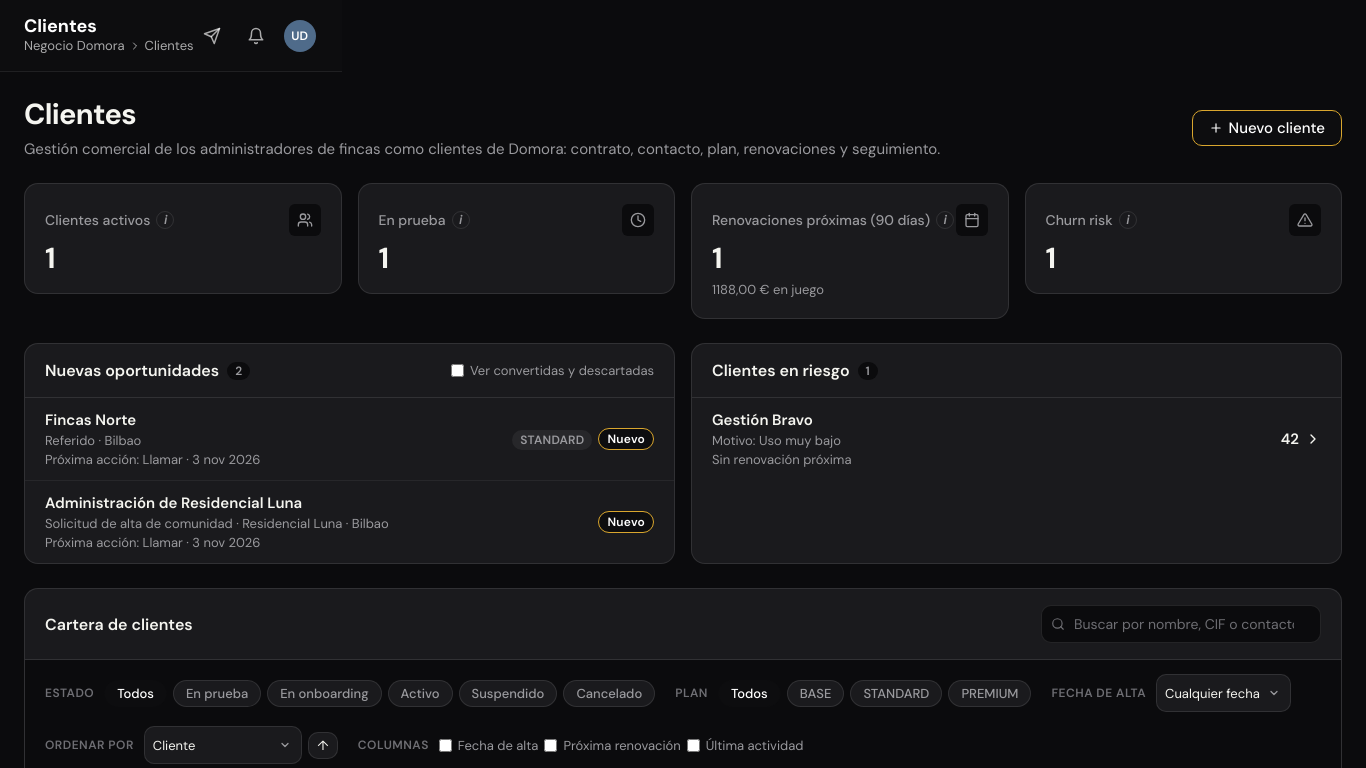
Test: ClientsAComponent (Clientes, S13) › la ficha de una oportunidad muestra y añade seguimiento comercial
Click the button that starts with "Fincas Norte" at (91, 420), box [25,398,674,480]
(page scrolled)
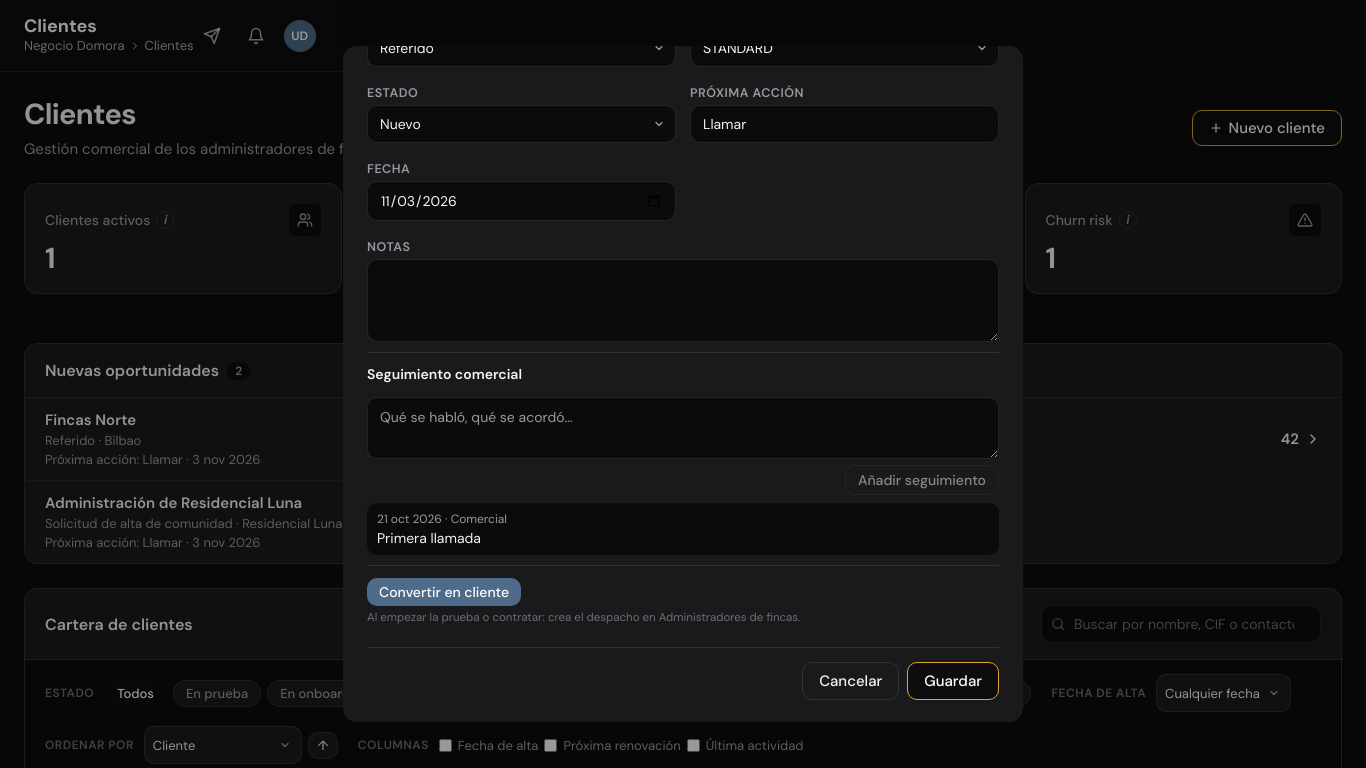
Type "Enviada la propuesta" into the text box with placeholder "Qué se habló, qué se acordó…" at (683, 428), box [367,397,999,459]
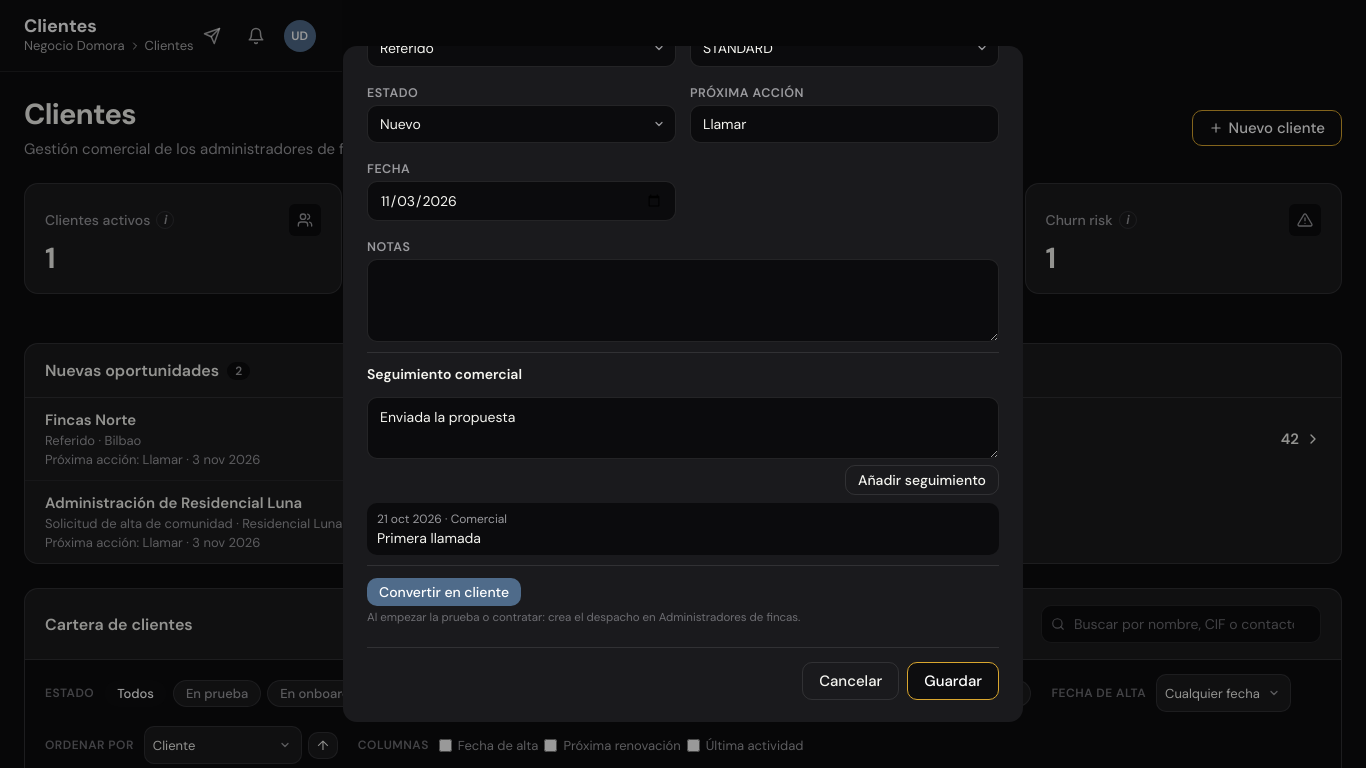
Click the button "Añadir seguimiento" at (922, 480), box [845,465,999,495]
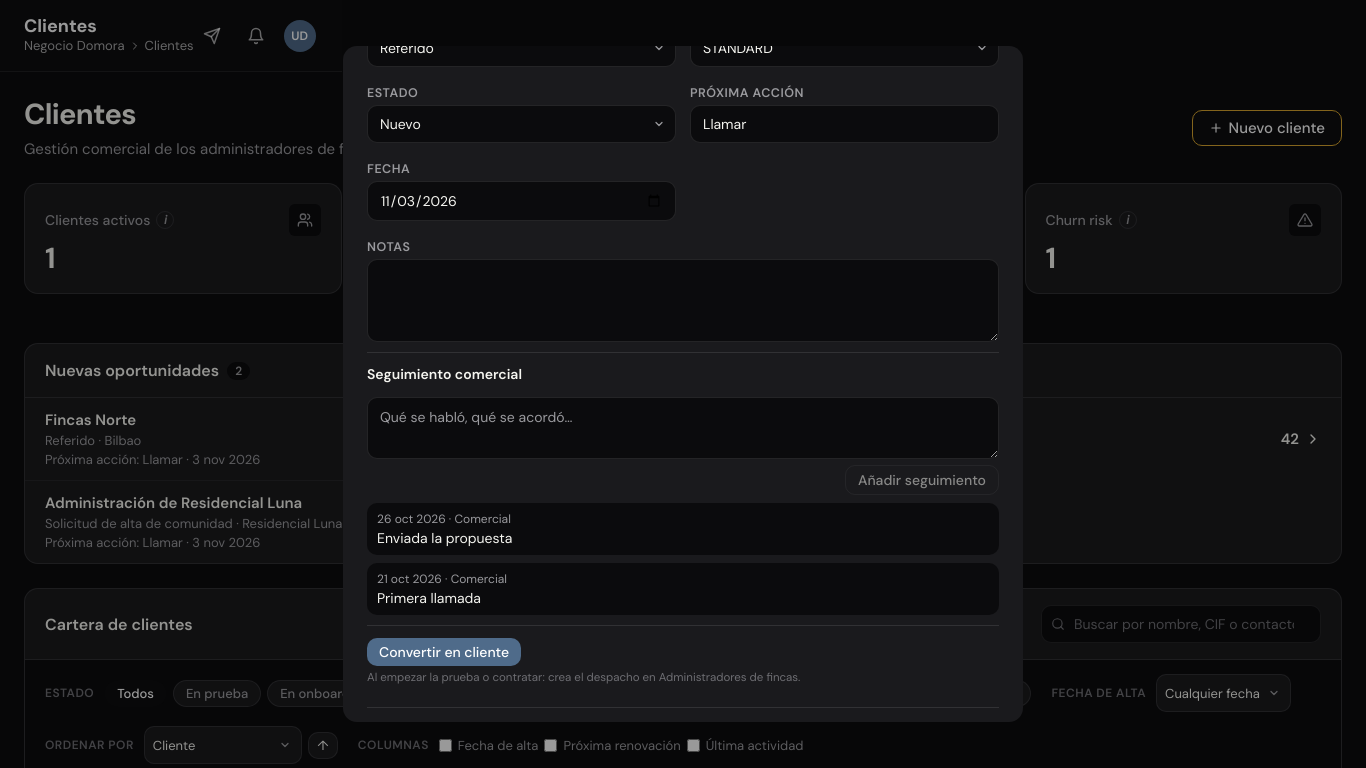
Now the list shows "Enviada la propuesta", box [377,529,512,547]
